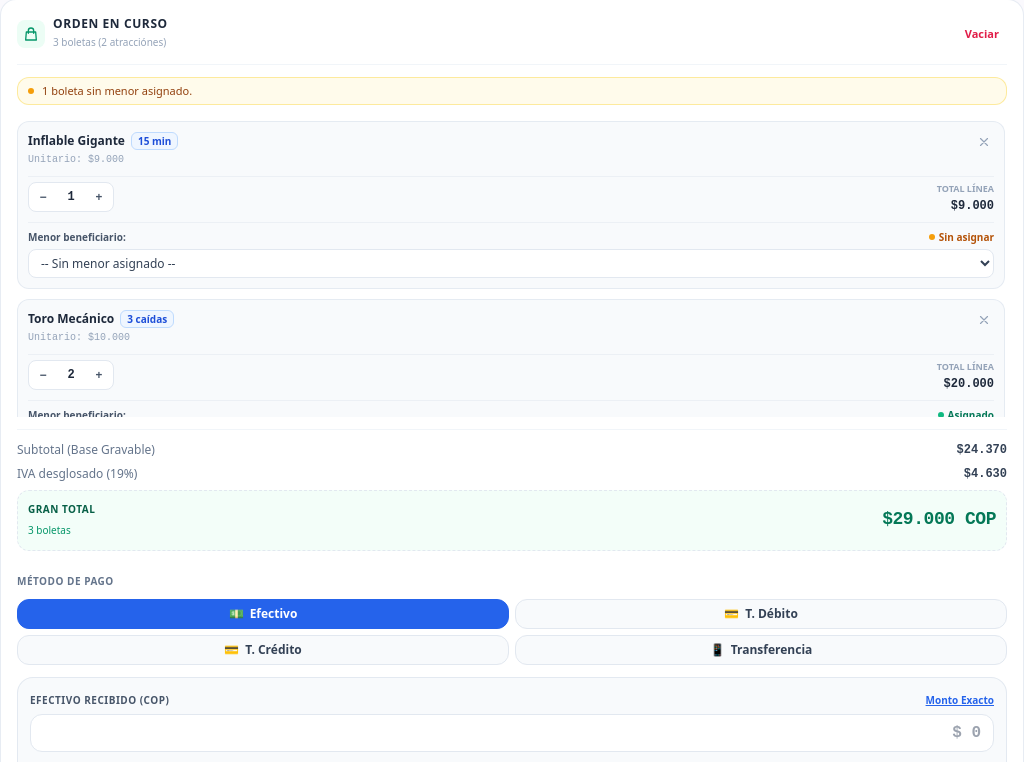
Test: PosCartComponent › Panel de Liquidación, Métodos de Pago y Cambio (CA-01, CA-02, CA-03) › should show faltante alert and disable confirm button when cash is insufficient
In the field with test id "input-monto-recibido": coordinates (512, 733) 30,714 -> 994,752, type "20000"
(page scrolled)
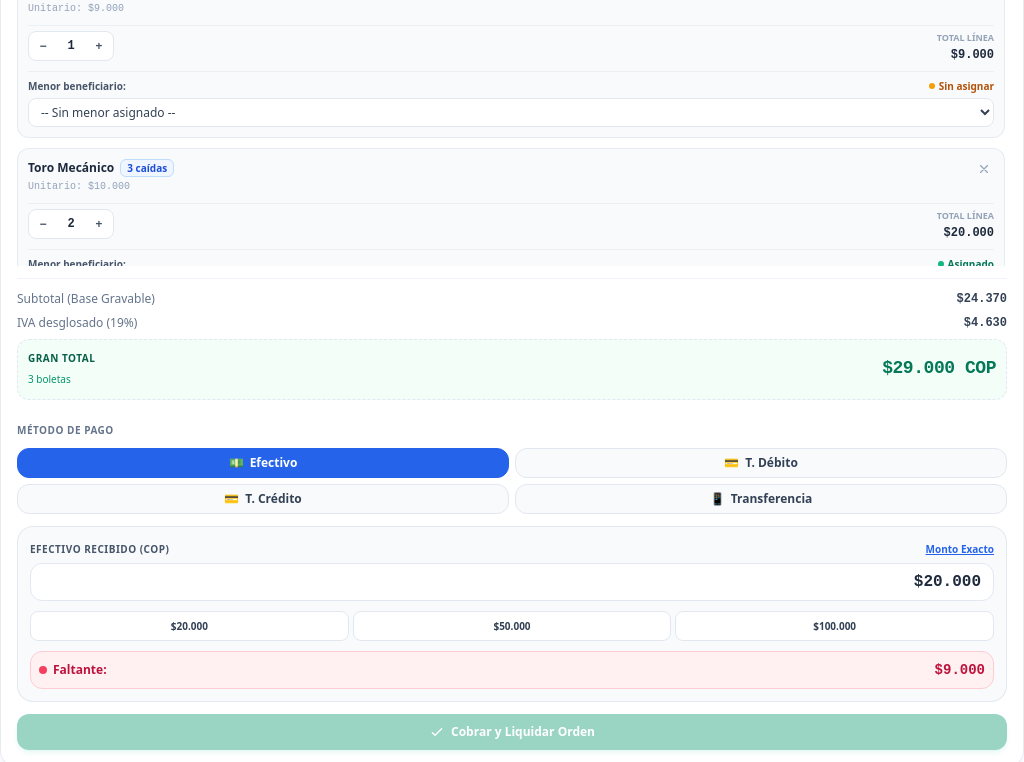
expect the button with test id "btn-liquidar-orden" is disabled: met, box 17,714 -> 1007,750
expect the text with test id "valor-faltante" is shown: met, box 935,660 -> 985,680
expect the text with test id "valor-faltante" reads "$9.000": met, box 935,662 -> 985,678
